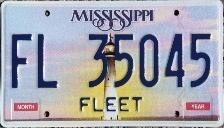0: (137, 32, 160, 89)
3: (87, 32, 110, 91)
4: (163, 32, 188, 90)
5: (110, 33, 136, 89), (188, 32, 213, 89)
F: (7, 32, 33, 90)
L: (35, 32, 61, 90)
